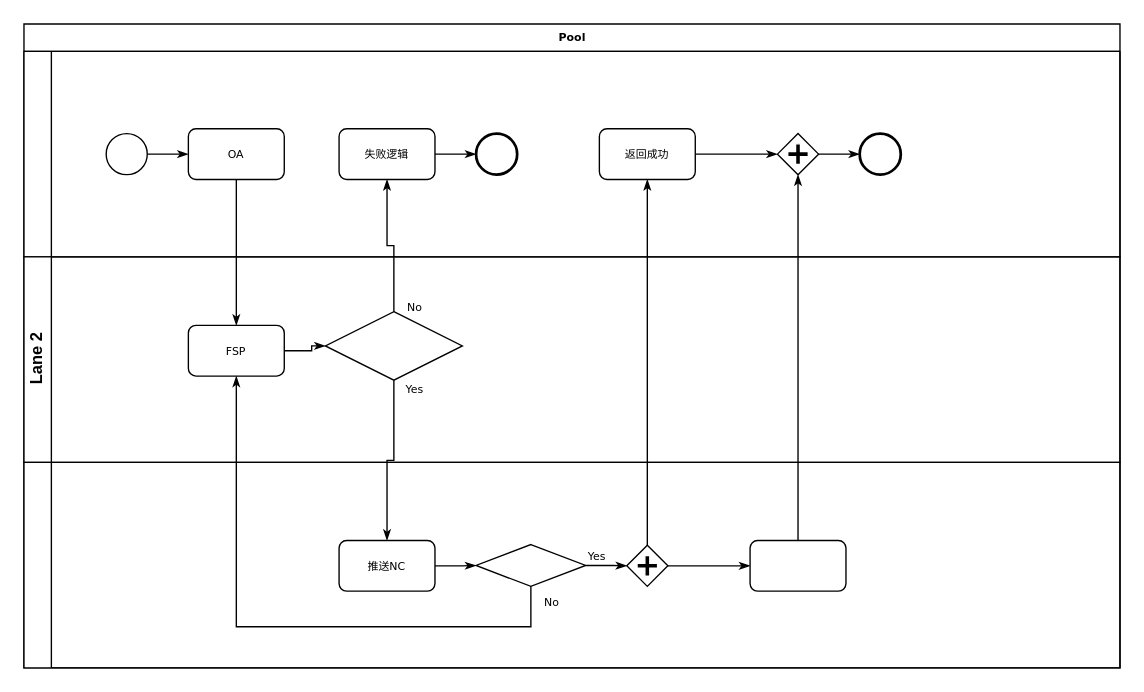
Image size: 1144x692. Some labels were removed from this diagram. The box of each missing label's shape, as (x1, y1, x2, y2) in pixels:
Lane 3: (23, 461, 1120, 668)
查看结果: (475, 543, 586, 586)
校验: (324, 310, 462, 380)
